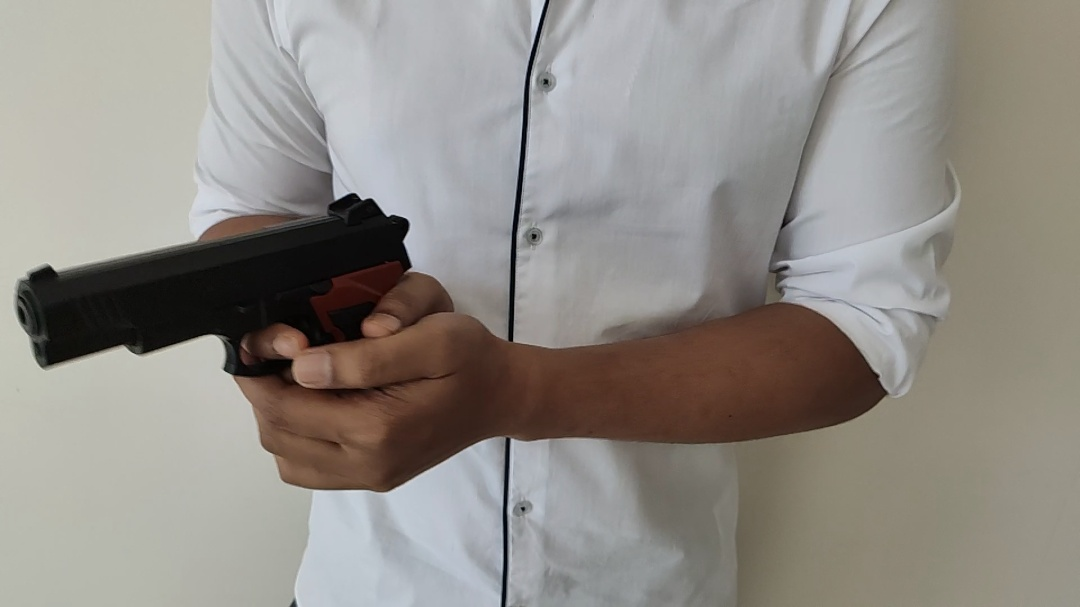gun: (13, 192, 412, 376)
